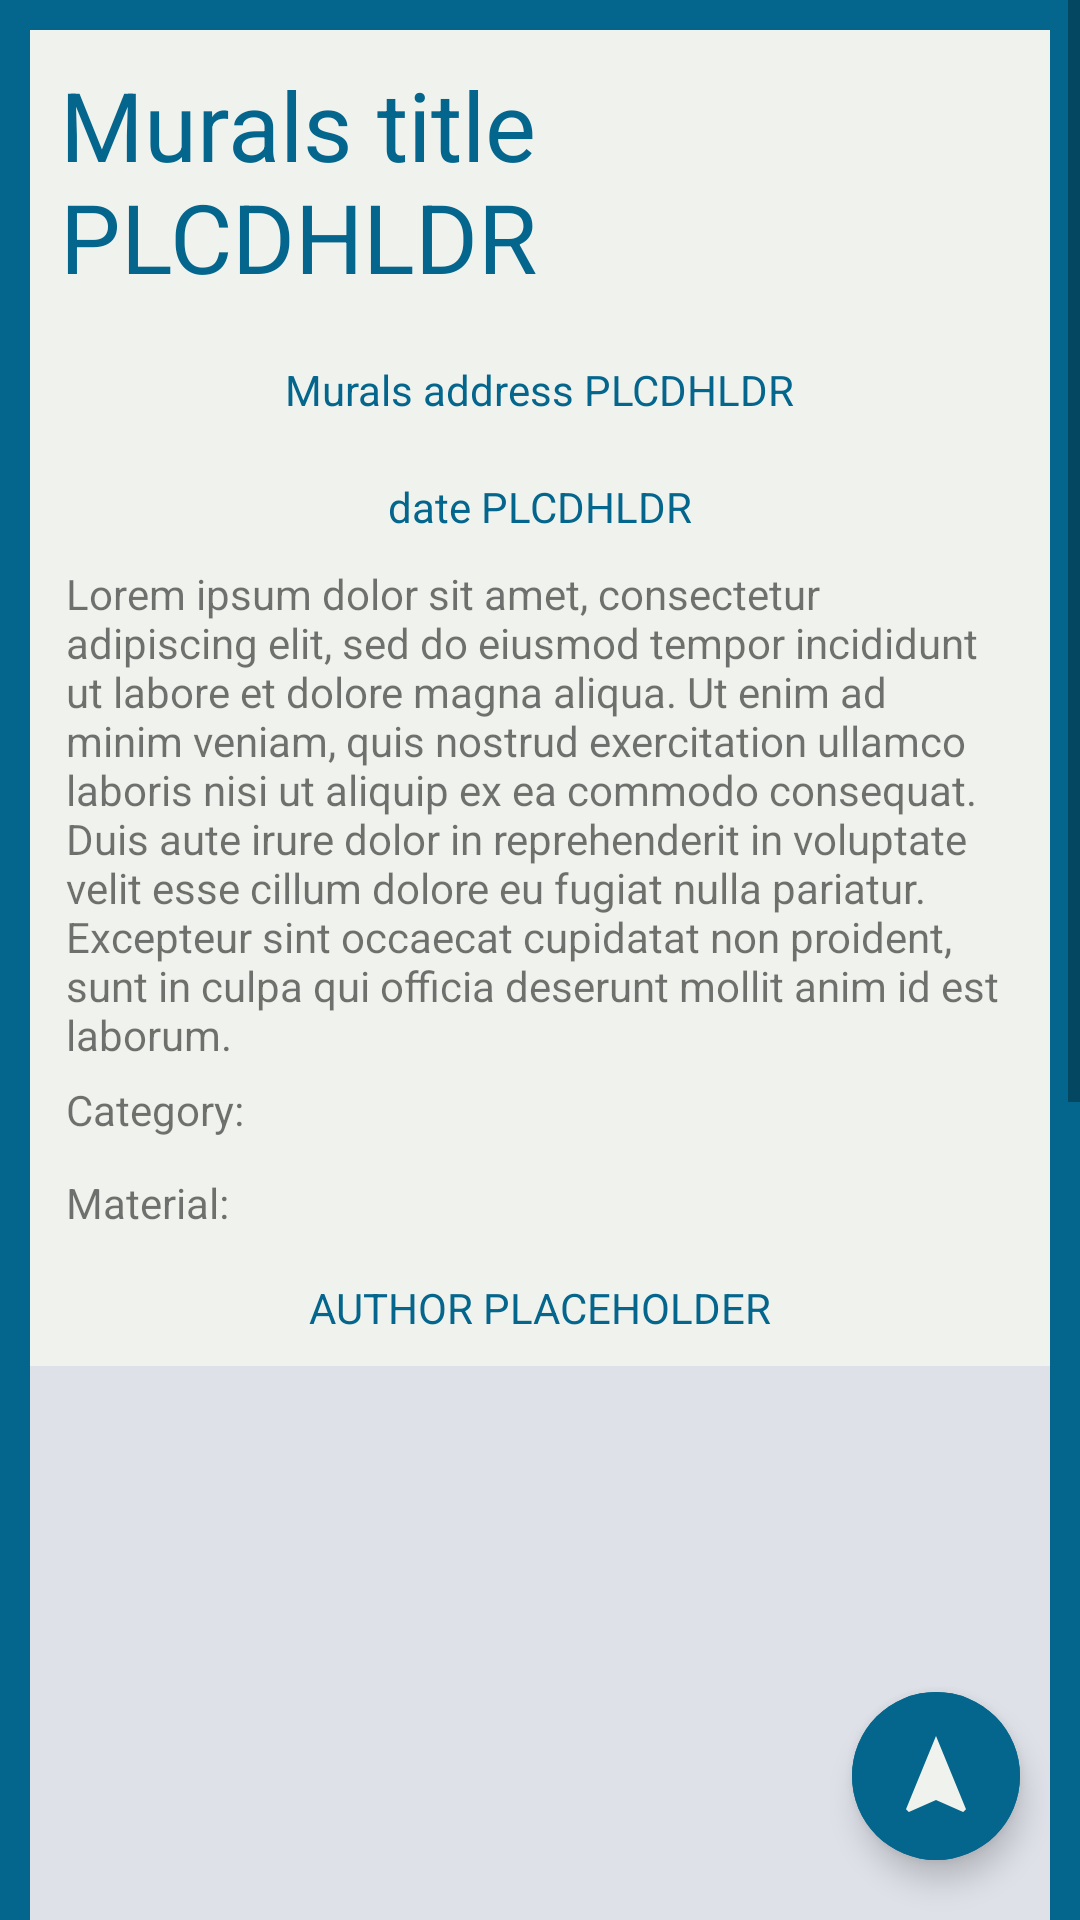

Icon click points for this 1080px×1920px phone screenshot, format (x=x, y=y):
nav: (x=936, y=1776)
